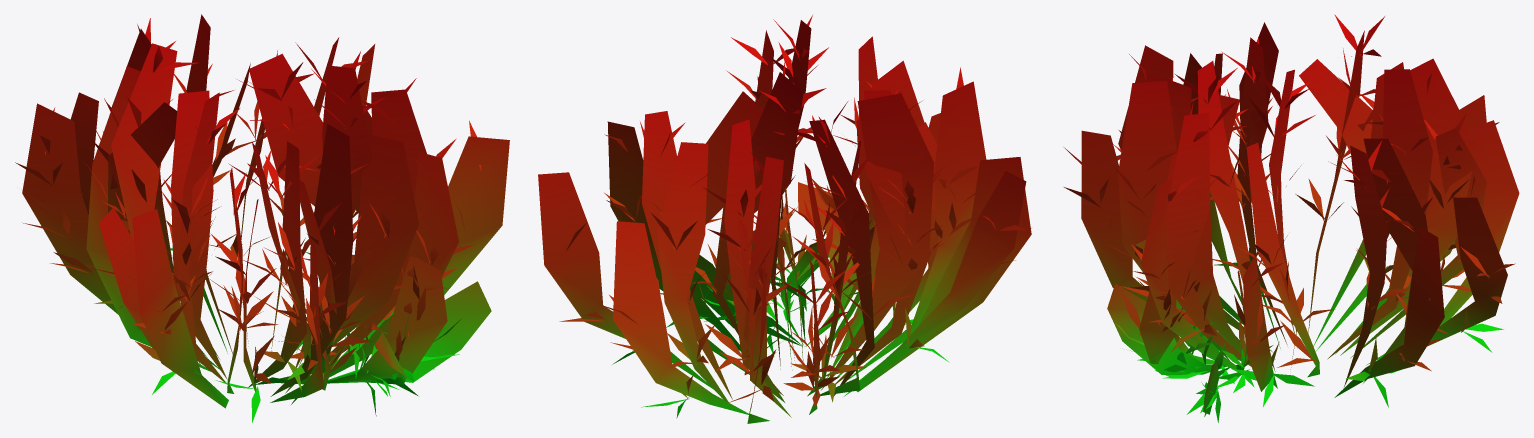
The model's file is Var8_LOD6.fbx.
3 views of the same model, side by side, from view 1: azimuth 30°, elevation 25°; view 2: azimuth 150°, elevation 25°; view 3: azimuth 270°, elevation 25° (orthographic). The views are drawn at different scales.
Parts seen in each view (by area): view 1: _6b90_Var8_LOD6; view 2: _6b90_Var8_LOD6; view 3: _6b90_Var8_LOD6.
Part boxes in pixels (x1,y1,x2,y2): _6b90_Var8_LOD6: (15, 14, 509, 422); _6b90_Var8_LOD6: (538, 15, 1031, 423); _6b90_Var8_LOD6: (1064, 14, 1519, 422).
Size of the model in its own units: 37.19 by 29.81 by 36.33.
